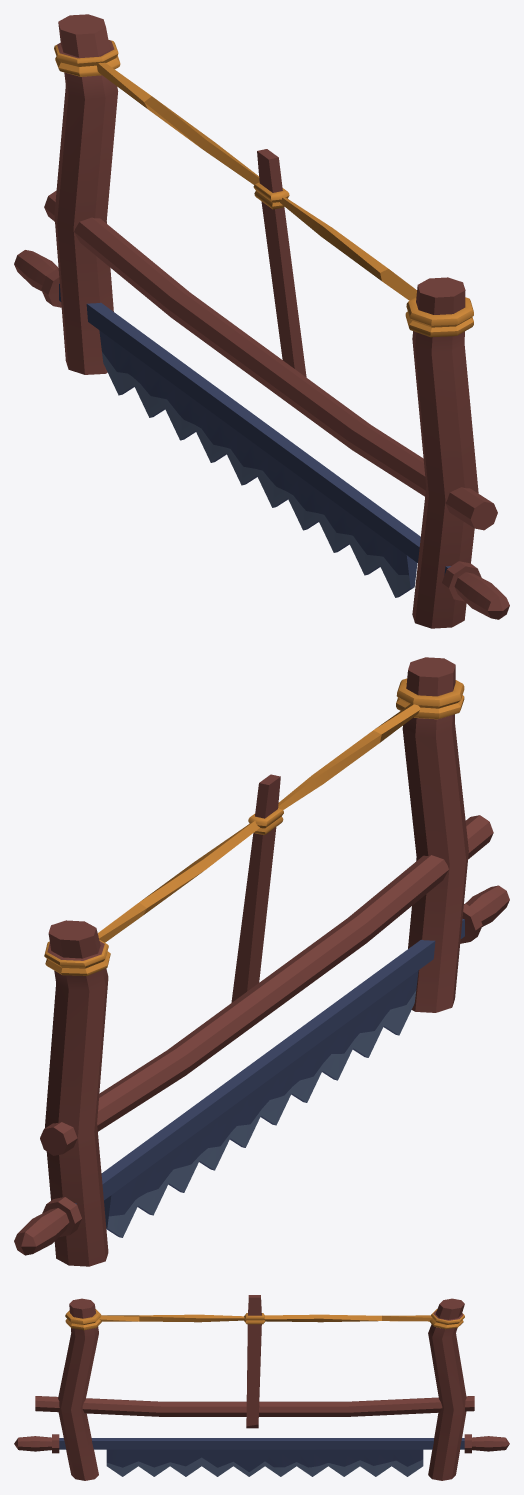
Rendered from Saw_02.fbx.
3 renders of one model, top to bottom at view 1: azimuth 30°, elevation 25°; view 2: azimuth 150°, elevation 25°; view 3: azimuth 270°, elevation 25°, orthographic. The views are drawn at different scales.
Visible parts, largest first — view 1: PoorMan Saw 2; view 2: PoorMan Saw 2; view 3: PoorMan Saw 2.
Part boxes in pixels (x1,y1,x2,y2): PoorMan Saw 2: (14,14,509,628); PoorMan Saw 2: (14,657,509,1266); PoorMan Saw 2: (14,1295,509,1480).
Size of the model in its own units: 9.98 by 54.37 by 136.
